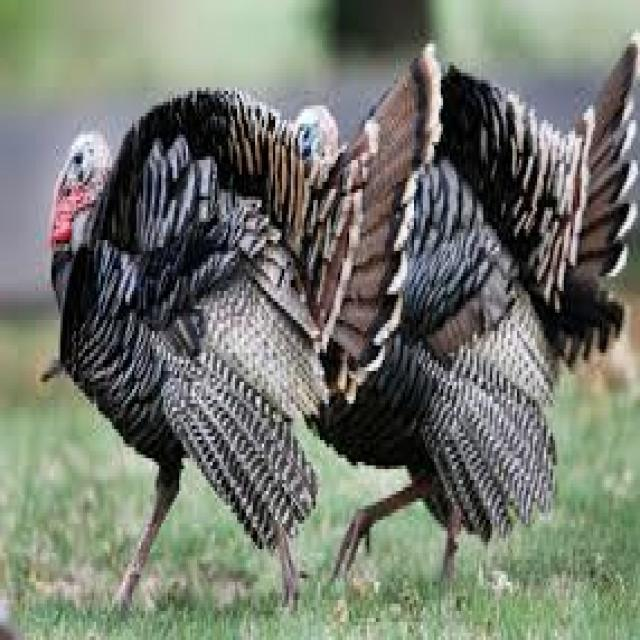turkey: (43, 51, 436, 600)
